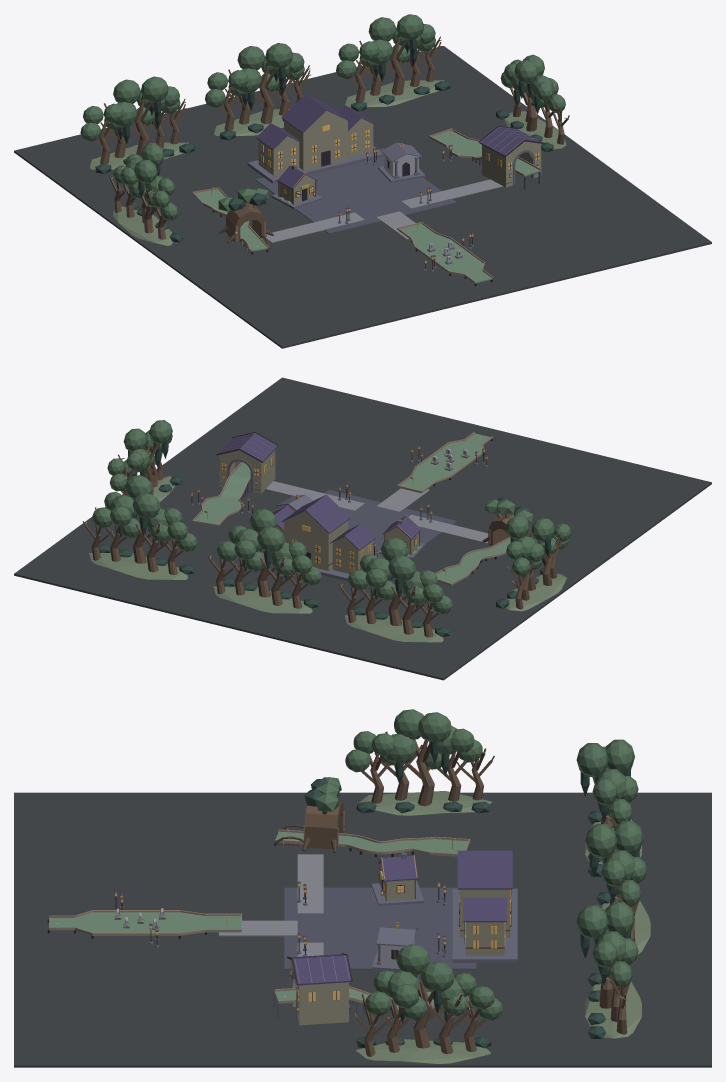
Rendered from district.glb.
3 renders of one model, top to bottom at view 1: azimuth 30°, elevation 25°; view 2: azimuth 150°, elevation 25°; view 3: azimuth 270°, elevation 25°, orthographic. The views are drawn at different scales.
Visible parts, largest first — view 1: HauntedWoods_District_Dressing, DistrictScenery_0__HauntedWoods_ManorBackdrop_Standard, DistrictScenery_5__HauntedWoods_ForestBackdrop_Standard, DistrictScenery_3__HauntedWoods_ForestBackdrop_Standard, DistrictScenery_4__HauntedWoods_ForestBackdrop_Standard, DistrictScenery_6__HauntedWoods_ForestBackdrop_Standard, DistrictScenery_7__HauntedWoods_ForestBackdrop_Standard, GraveyardGambit__HauntedWoods_GraveyardGambit_Surface, HollowHeart_1__HauntedWoods_HollowOakPassage_Standard, ManorDescent_0__HauntedWoods_ManorGatehouse_Standard, DistrictScenery_1__HauntedWoods_CrookedCottage_Standard, DistrictScenery_2__HauntedWoods_Mausoleum_Standard (+3 smaller); view 2: HauntedWoods_District_Dressing, DistrictScenery_4__HauntedWoods_ForestBackdrop_Standard, DistrictScenery_3__HauntedWoods_ForestBackdrop_Standard, DistrictScenery_5__HauntedWoods_ForestBackdrop_Standard, DistrictScenery_0__HauntedWoods_ManorBackdrop_Standard, DistrictScenery_6__HauntedWoods_ForestBackdrop_Standard, DistrictScenery_7__HauntedWoods_ForestBackdrop_Standard, GraveyardGambit__HauntedWoods_GraveyardGambit_Surface, ManorDescent__HauntedWoods_ManorDescent_Surface, ManorDescent_0__HauntedWoods_ManorGatehouse_Standard, HollowHeart_1__HauntedWoods_HollowOakPassage_Standard, ManorDescent_1__HauntedWoods_ManorRoof_Standard (+2 smaller); view 3: HauntedWoods_District_Dressing, DistrictScenery_7__HauntedWoods_ForestBackdrop_Standard, DistrictScenery_6__HauntedWoods_ForestBackdrop_Standard, DistrictScenery_0__HauntedWoods_ManorBackdrop_Standard, DistrictScenery_5__HauntedWoods_ForestBackdrop_Standard, DistrictScenery_4__HauntedWoods_ForestBackdrop_Standard, DistrictScenery_3__HauntedWoods_ForestBackdrop_Standard, GraveyardGambit__HauntedWoods_GraveyardGambit_Surface, HollowHeart_1__HauntedWoods_HollowOakPassage_Standard, ManorDescent_0__HauntedWoods_ManorGatehouse_Standard, DistrictScenery_1__HauntedWoods_CrookedCottage_Standard, HollowHeart__HauntedWoods_HollowHeart_Surface (+4 smaller).
Part boxes in pixels (x1,y1,x2,y2): HauntedWoods_District_Dressing: (14,46,711,348); DistrictScenery_0__HauntedWoods_ManorBackdrop_Standard: (247,94,384,183); DistrictScenery_5__HauntedWoods_ForestBackdrop_Standard: (336,14,450,111); DistrictScenery_3__HauntedWoods_ForestBackdrop_Standard: (80,76,195,173); DistrictScenery_4__HauntedWoods_ForestBackdrop_Standard: (205,43,311,140); DistrictScenery_6__HauntedWoods_ForestBackdrop_Standard: (109,143,182,245); DistrictScenery_7__HauntedWoods_ForestBackdrop_Standard: (496,54,569,151); GraveyardGambit__HauntedWoods_GraveyardGambit_Surface: (398,223,492,283); HollowHeart_1__HauntedWoods_HollowOakPassage_Standard: (218,188,273,243); ManorDescent_0__HauntedWoods_ManorGatehouse_Standard: (481,145,541,187); DistrictScenery_1__HauntedWoods_CrookedCottage_Standard: (271,164,322,208); DistrictScenery_2__HauntedWoods_Mausoleum_Standard: (378,142,425,182); HauntedWoods_District_Dressing: (14,377,711,680); DistrictScenery_4__HauntedWoods_ForestBackdrop_Standard: (207,508,321,613); DistrictScenery_3__HauntedWoods_ForestBackdrop_Standard: (338,537,452,642); DistrictScenery_5__HauntedWoods_ForestBackdrop_Standard: (83,475,197,579); DistrictScenery_0__HauntedWoods_ManorBackdrop_Standard: (257,494,375,581); DistrictScenery_6__HauntedWoods_ForestBackdrop_Standard: (496,515,571,611); DistrictScenery_7__HauntedWoods_ForestBackdrop_Standard: (107,420,182,517); GraveyardGambit__HauntedWoods_GraveyardGambit_Surface: (398,433,491,493); ManorDescent__HauntedWoods_ManorDescent_Surface: (193,462,250,526); ManorDescent_0__HauntedWoods_ManorGatehouse_Standard: (219,450,275,493); HollowHeart_1__HauntedWoods_HollowOakPassage_Standard: (482,497,533,545); ManorDescent_1__HauntedWoods_ManorRoof_Standard: (216,432,278,462); HauntedWoods_District_Dressing: (14,792,711,1067); DistrictScenery_7__HauntedWoods_ForestBackdrop_Standard: (353,944,502,1063); DistrictScenery_6__HauntedWoods_ForestBackdrop_Standard: (345,709,494,815); DistrictScenery_0__HauntedWoods_ManorBackdrop_Standard: (452,850,517,962); DistrictScenery_5__HauntedWoods_ForestBackdrop_Standard: (576,902,641,1038); DistrictScenery_4__HauntedWoods_ForestBackdrop_Standard: (585,821,650,954); DistrictScenery_3__HauntedWoods_ForestBackdrop_Standard: (576,739,641,876); GraveyardGambit__HauntedWoods_GraveyardGambit_Surface: (49,912,240,935); HollowHeart_1__HauntedWoods_HollowOakPassage_Standard: (302,777,346,852); ManorDescent_0__HauntedWoods_ManorGatehouse_Standard: (290,963,349,1025); DistrictScenery_1__HauntedWoods_CrookedCottage_Standard: (371,852,424,905); HollowHeart__HauntedWoods_HollowHeart_Surface: (276,831,468,856).
Size of what is drawn, in the model's own units: 74 by 14.15 by 80.
